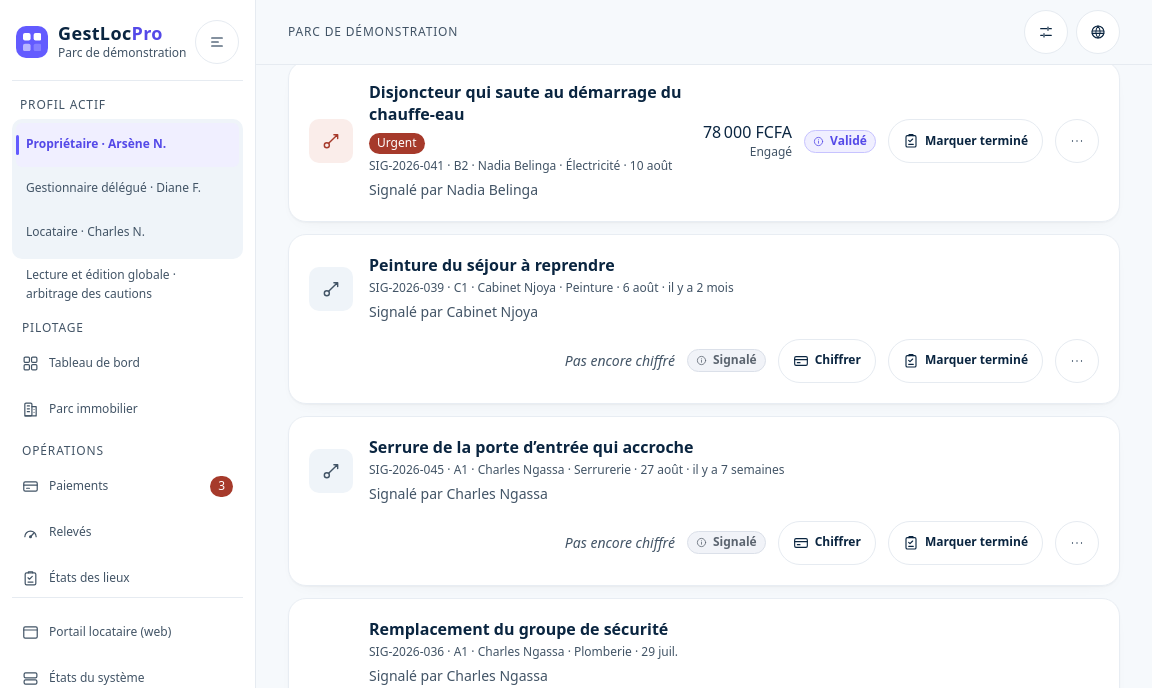
Test case: gestes atteignables sans le toast › offre de chiffrer une intervention déclarée
The width and height of the screenshot is (1152, 688).
(page scrolled)
Click the button "Chiffrer" below "Signalé par Cabinet Njoya" at (827, 361), box [778,339,876,383]
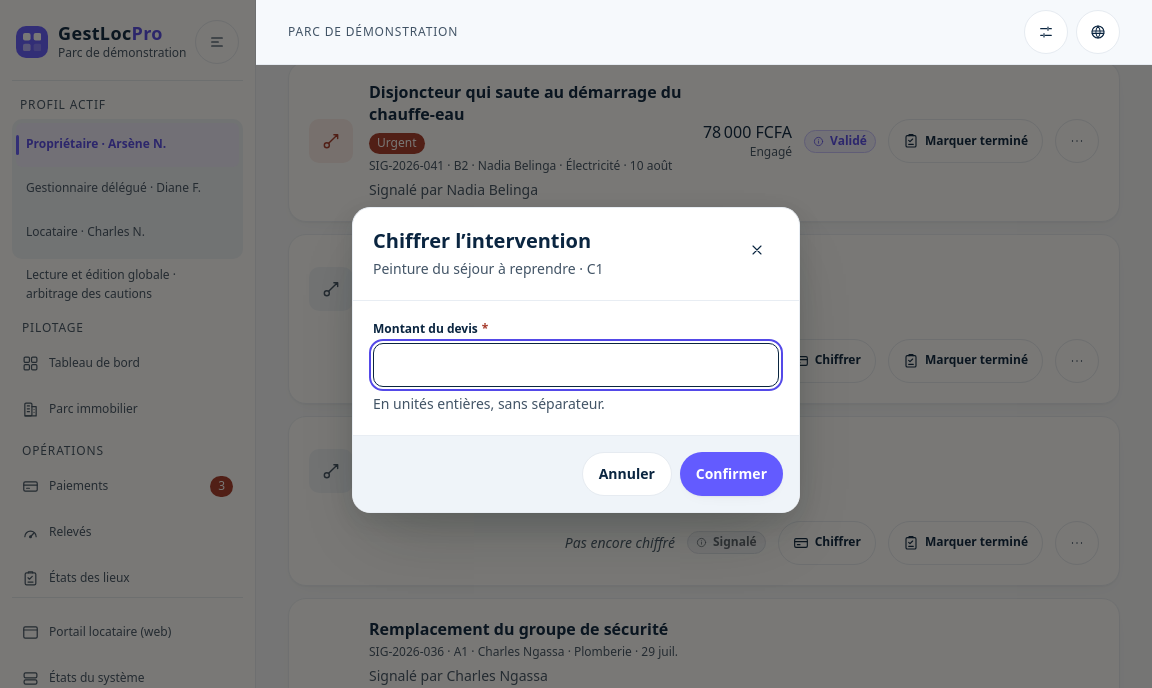
Type "42000" into the field at (576, 365), box [373,343,779,387]
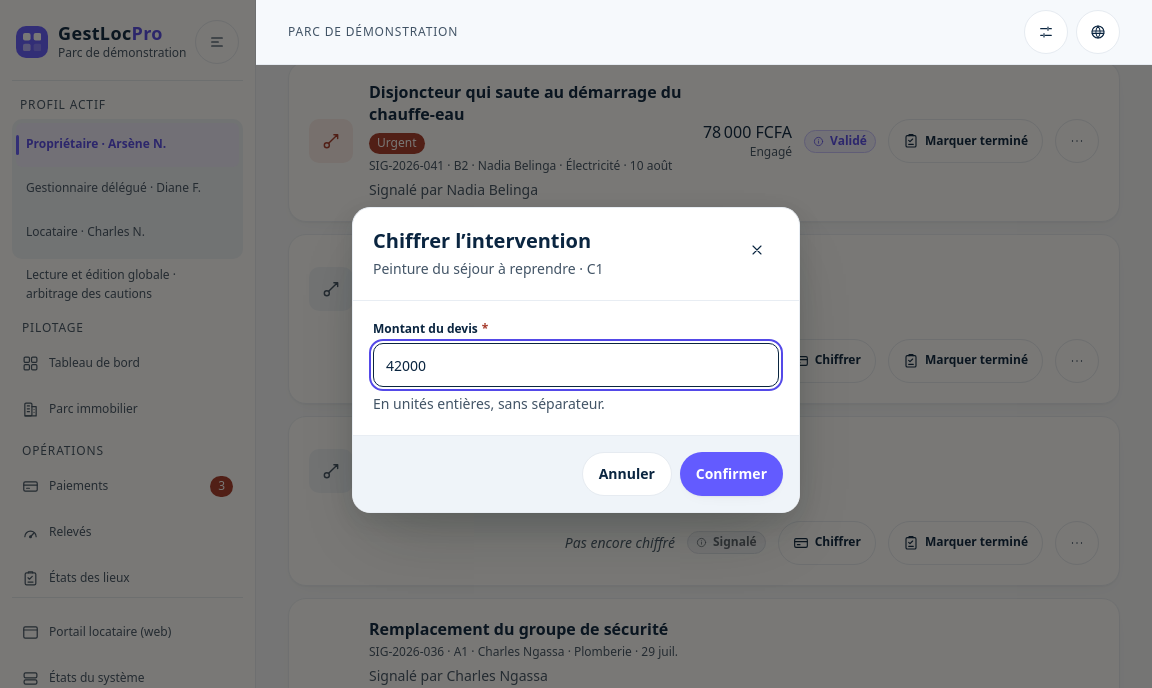
Click the button "Confirmer" at (731, 474), box [680,452,783,496]
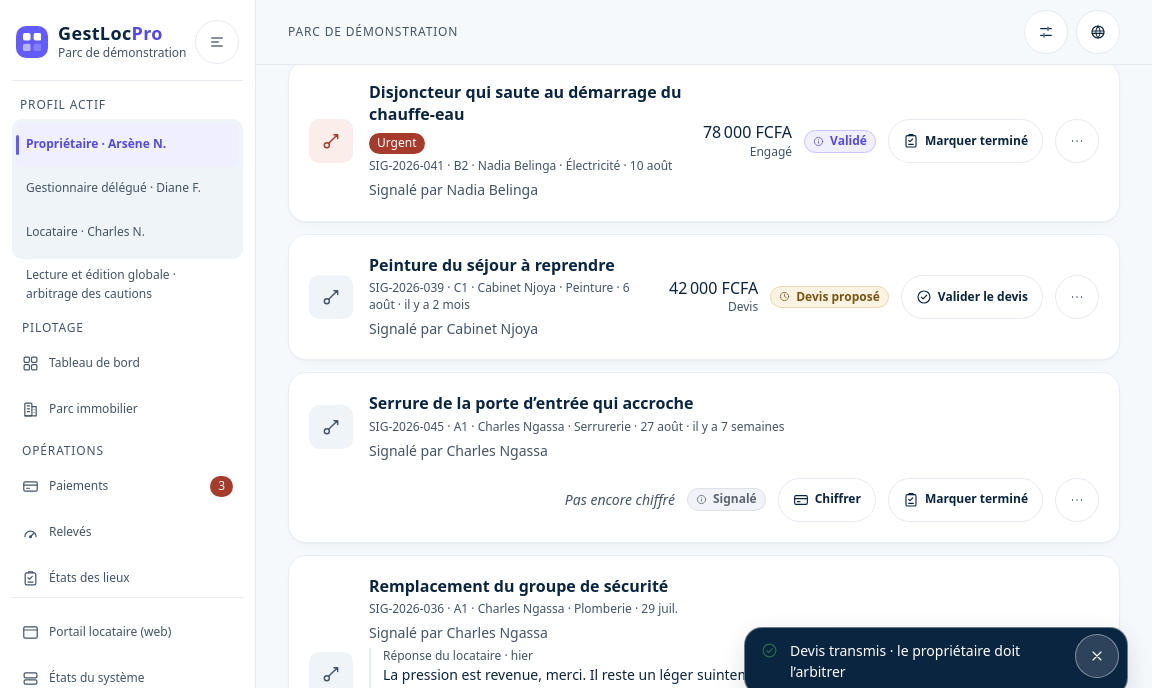
expect the text "Devis proposé" is shown 3 times: met
